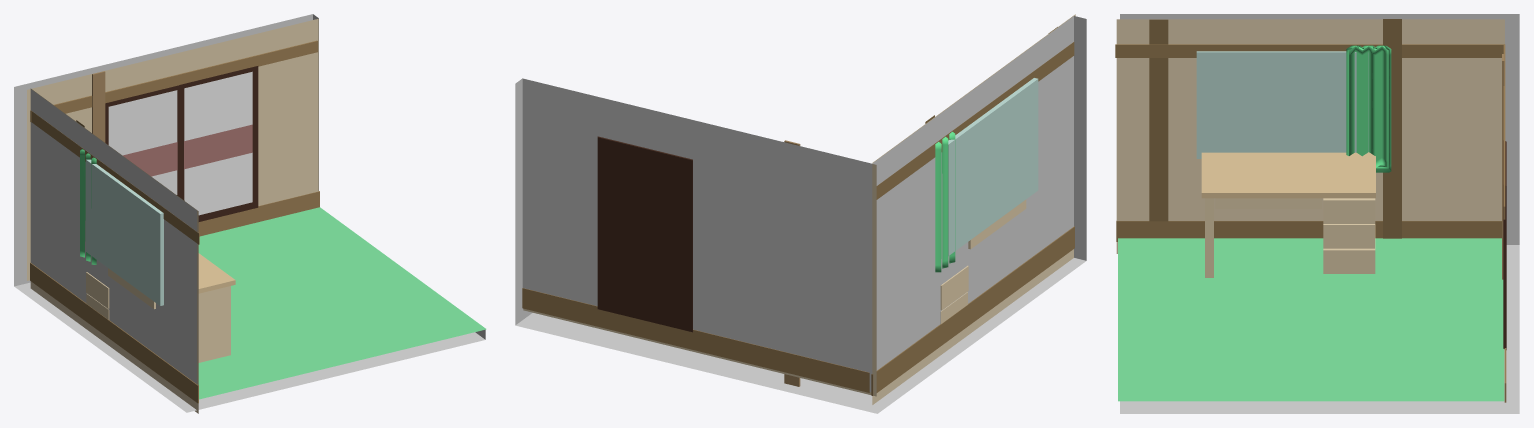
File: heya.glb
3 renders of one model, left to right at view 1: azimuth 30°, elevation 25°; view 2: azimuth 150°, elevation 25°; view 3: azimuth 270°, elevation 25°, orthographic. The views are drawn at different scales.
Parts seen in each view (by area): view 1: floor, room, 平面.003, 立方体.006, 平面.012, 平面.011, 平面.002, 平面.006, 平面.013, 立方体.001, 平面.014, 平面.007 (+8 smaller); view 2: room, 平面.013, 立方体.006, 平面.007, 平面.002, 平面.004, 平面.005, カーテン, 平面.003, 立方体.007, 立方体; view 3: floor, 平面.004, 立方体.006, room, 立方体.002, 平面.002, カーテン, 平面.005, 平面.001, 平面, 立方体.004, 立方体.003 (+6 smaller).
Boxes of the visible parts, <box> form: floor: <box>198,207,486,399</box>; room: <box>14,14,485,412</box>; 平面.003: <box>27,19,318,280</box>; 立方体.006: <box>86,159,163,305</box>; 平面.012: <box>184,71,252,215</box>; 平面.011: <box>108,90,177,194</box>; 平面.002: <box>30,262,198,403</box>; 平面.006: <box>30,40,317,121</box>; 平面.013: <box>179,66,258,221</box>; 立方体.001: <box>198,286,230,362</box>; 平面.014: <box>184,124,252,169</box>; 平面.007: <box>198,191,319,236</box>; room: <box>515,16,1086,413</box>; 平面.013: <box>597,136,692,332</box>; 立方体.006: <box>948,78,1038,255</box>; 平面.007: <box>522,288,869,392</box>; 平面.002: <box>871,226,1074,395</box>; 平面.004: <box>872,14,1075,404</box>; 平面.005: <box>876,42,1074,199</box>; カーテン: <box>935,131,955,272</box>; 平面.003: <box>523,164,876,396</box>; 立方体.007: <box>940,265,968,310</box>; 立方体: <box>968,199,1026,249</box>; floor: <box>1118,238,1504,401</box>; 平面.004: <box>1116,19,1504,253</box>; 立方体.006: <box>1196,51,1368,158</box>; room: <box>1120,14,1519,413</box>; 立方体.002: <box>1201,152,1375,198</box>; 平面.002: <box>1116,221,1501,241</box>; カーテン: <box>1346,45,1391,172</box>; 平面.005: <box>1115,44,1504,57</box>; 平面.001: <box>1149,19,1168,221</box>; 平面: <box>1383,19,1401,238</box>; 立方体.004: <box>1323,224,1375,273</box>; 立方体.003: <box>1323,198,1375,223</box>.
Bounding box in the file's own units: 2.04 × 1.36 × 2.06.
